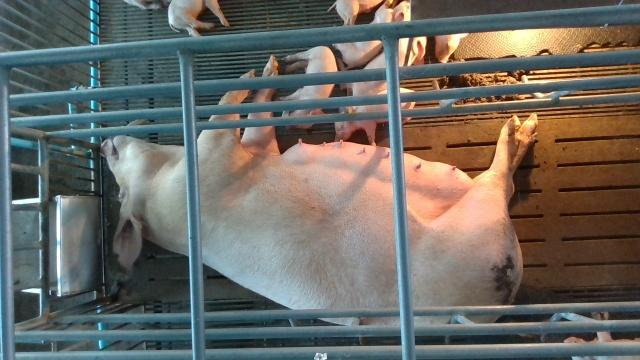piglet: (338, 36, 427, 95), (333, 0, 411, 67), (335, 88, 417, 146), (281, 46, 337, 128), (168, 0, 230, 37)
sow-sleep-lactate: (101, 53, 539, 325)
